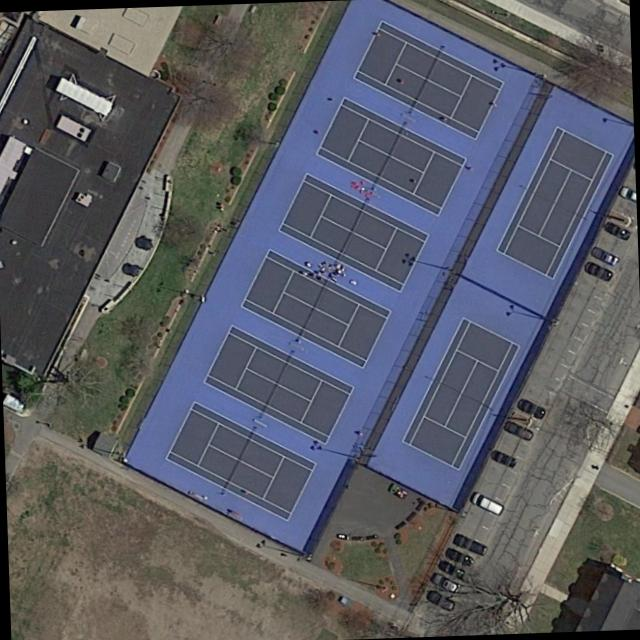small-vehicle: (469, 489, 506, 517), (451, 532, 489, 557), (581, 258, 615, 283), (425, 586, 457, 612), (502, 417, 536, 441), (514, 395, 547, 419), (601, 217, 633, 241), (488, 446, 518, 470), (590, 243, 621, 266), (431, 571, 460, 594), (444, 546, 474, 567), (438, 559, 467, 580)
